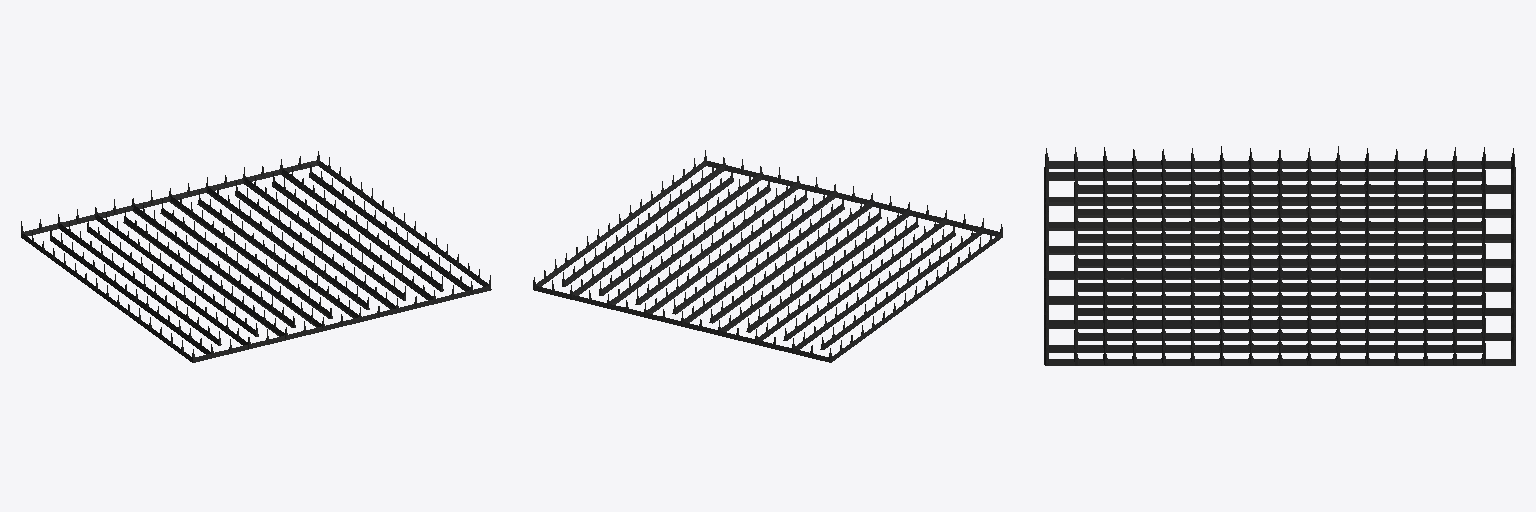
The robot description file, URDF, robot "straigh":
<?xml version="1.0"?> 
<robot name="straigh">

    <material name="black">
        <color rgba="0.2 0.2 0.2 0.95"/>
    </material>

    <link name="base_link">
        <visual>
            <origin xyz="0.0 0.0 0.05" rpy="0.0 0.0 0.0"/>
            <geometry>
                <mesh filename="meshes/straight.obj" scale="0.02 0.02 0.01" />
            </geometry>
          <material name="black"/>
        </visual>

        <collision concave="yes" name="collision_0">
           <origin xyz="0.0 0.0 0.05" rpy="0.0 0.0 0.0"/>
            <geometry>
                <mesh filename="meshes/straight.obj" scale="0.02 0.02 0.01" />
            </geometry>
        </collision>

        <inertial> 
            <mass value="0"/>
            <inertia ixx="0" ixy="0" ixz="0" iyy="0" iyz="0" izz="0"/>
        </inertial> 

    </link>
</robot>

--- Facts derived from the render (not from the file) ---
The picture shows the robot from 3 angles, left to right: view 1: azimuth 30°, elevation 25°; view 2: azimuth 150°, elevation 25°; view 3: azimuth 270°, elevation 25°; orthographic projection.
Robot: straigh — 1 links, 0 joints (none); root link base_link; default pose: every joint at zero.
Visible links, largest first — view 1: base_link; view 2: base_link; view 3: base_link.
Boxes of the visible links, <box> form: base_link: <box>21,151,491,362</box>; base_link: <box>533,150,1002,362</box>; base_link: <box>1044,146,1515,365</box>.
Size in the robot's own frame: 2.01 by 2.01 by 0.1 metres.
Meshes: 1 distinct files referenced, 1 mesh visuals loaded (1 OBJ).